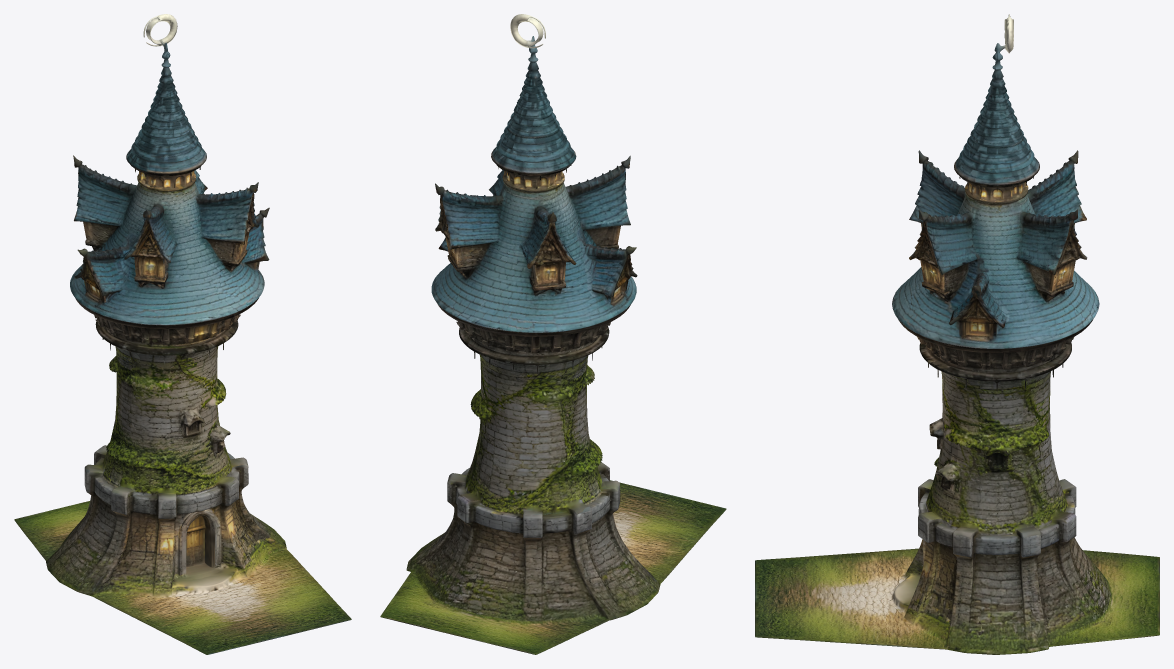
File: tower.glb
3 renders of one model, left to right at view 1: azimuth 30°, elevation 25°; view 2: azimuth 150°, elevation 25°; view 3: azimuth 270°, elevation 25°, orthographic. The views are drawn at different scales.
Visible parts, largest first — view 1: node_0; view 2: node_0; view 3: node_0.
Boxes of the visible parts, x1,y1,x2,y2 form: node_0: (14,14,351,654); node_0: (380,14,726,654); node_0: (755,14,1159,654).
Size of the model in its own units: 0.4121 by 0.9847 by 0.6213.
Materials: 1 (1 with a texture image).
